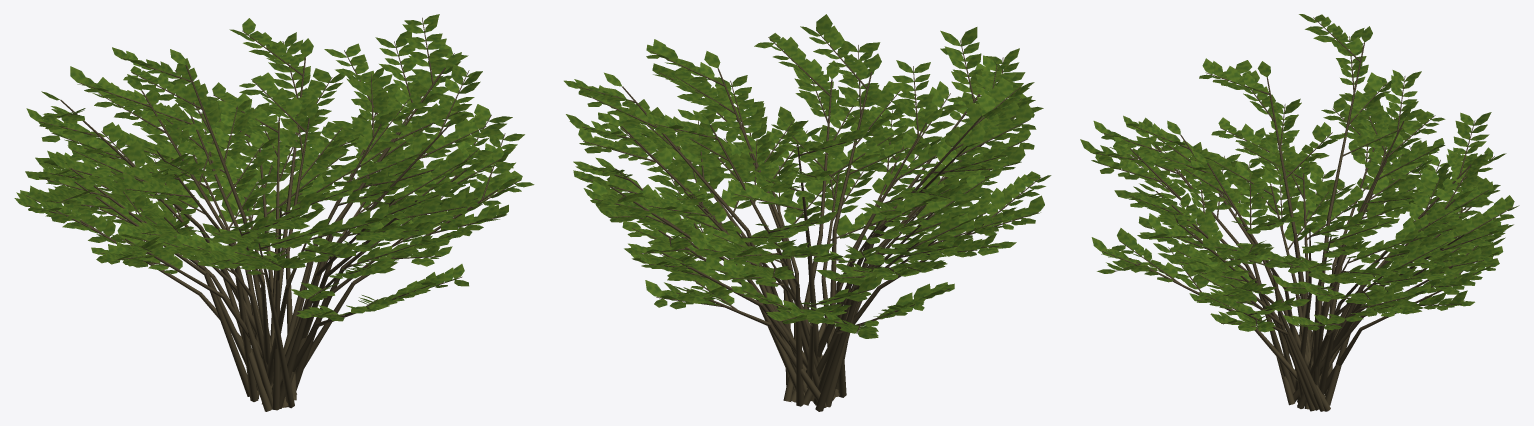
The model's file is understory.glb.
The picture shows the model from 3 angles, left to right: view 1: azimuth 30°, elevation 25°; view 2: azimuth 150°, elevation 25°; view 3: azimuth 270°, elevation 25°; orthographic projection. The views are drawn at different scales.
Visible parts, largest first — view 1: Understory_leaves_2, Understory_leaves_0, Understory_leaves_1, Understory_twigs_2, Understory_twigs_0, Understory_twigs_1; view 2: Understory_leaves_2, Understory_leaves_0, Understory_leaves_1, Understory_twigs_2, Understory_twigs_0, Understory_twigs_1; view 3: Understory_leaves_2, Understory_leaves_0, Understory_leaves_1, Understory_twigs_2, Understory_twigs_0, Understory_twigs_1.
Part boxes in pixels (x1,y1,x2,y2): Understory_leaves_2: [26, 14, 501, 268]; Understory_leaves_0: [14, 18, 513, 321]; Understory_leaves_1: [25, 31, 534, 301]; Understory_twigs_2: [39, 17, 486, 411]; Understory_twigs_0: [26, 30, 502, 410]; Understory_twigs_1: [39, 41, 520, 409]; Understory_leaves_2: [564, 14, 1036, 267]; Understory_leaves_0: [583, 33, 1051, 338]; Understory_leaves_1: [566, 48, 1043, 323]; Understory_twigs_2: [577, 30, 1028, 407]; Understory_twigs_0: [594, 37, 1041, 411]; Understory_twigs_1: [582, 57, 1027, 405]; Understory_leaves_2: [1080, 14, 1504, 304]; Understory_leaves_0: [1091, 97, 1519, 330]; Understory_leaves_1: [1093, 93, 1513, 332]; Understory_twigs_2: [1092, 17, 1488, 409]; Understory_twigs_0: [1102, 108, 1513, 411]; Understory_twigs_1: [1102, 109, 1492, 411].
Bounding box in the file's own units: 2.27 × 1.61 × 2.13.
2 materials, 1 textured.
